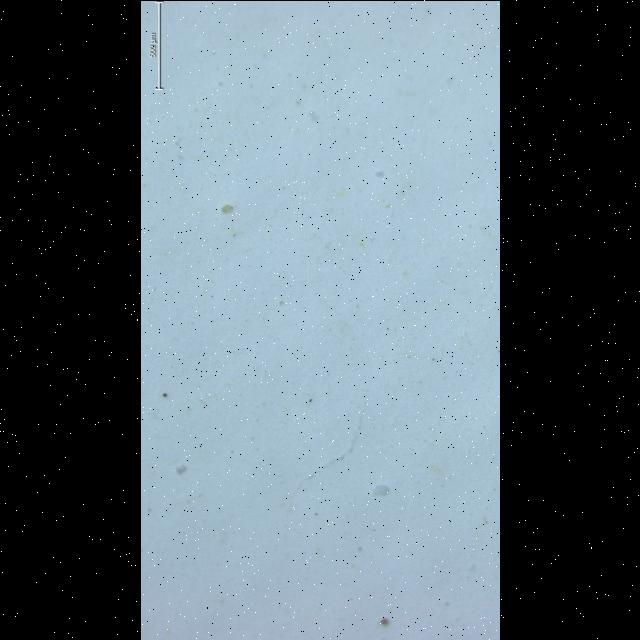Fibre: (295, 406, 365, 489)
Fragment: (372, 484, 389, 495)
